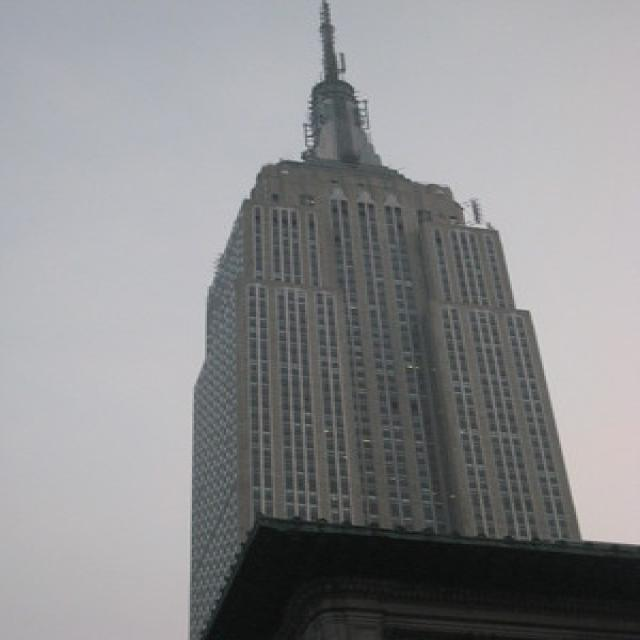building: (180, 150, 588, 640)
